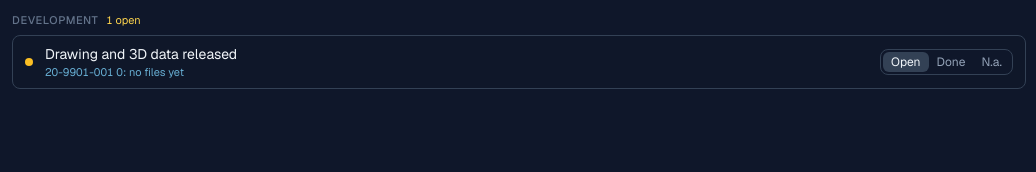
ReleaseChecklist › R38: the drawing row refuses done while the revision shows no files
This screenshot has width=1036, height=172.
Click the radio button with test id "release-check-drawing_released-done": (951, 62) left=929, top=52, right=973, bottom=72
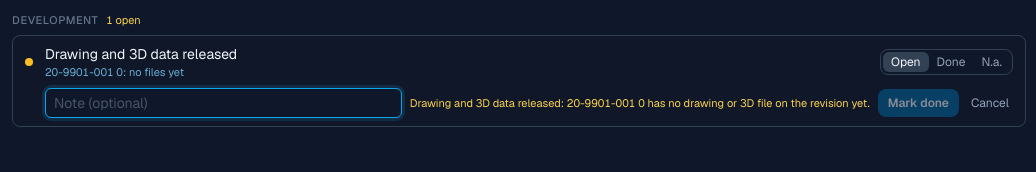
Now the text with test id "release-check-drawing_released-refused" shows "no drawing or 3D file", box left=410, top=96, right=870, bottom=110
Now the button with test id "release-check-drawing_released-confirm" is disabled, box left=878, top=89, right=959, bottom=117
Click the radio button with test id "release-check-drawing_released-na": (992, 62) left=973, top=52, right=1010, bottom=72
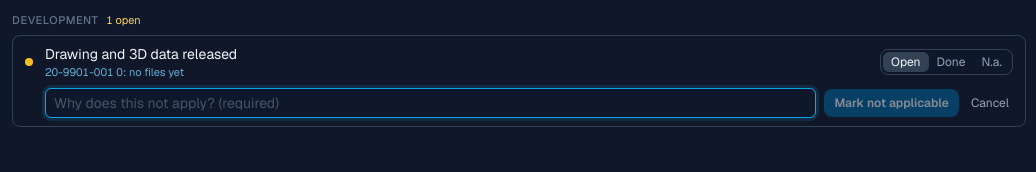
Now the text with test id "release-check-drawing_released-refused" is gone
